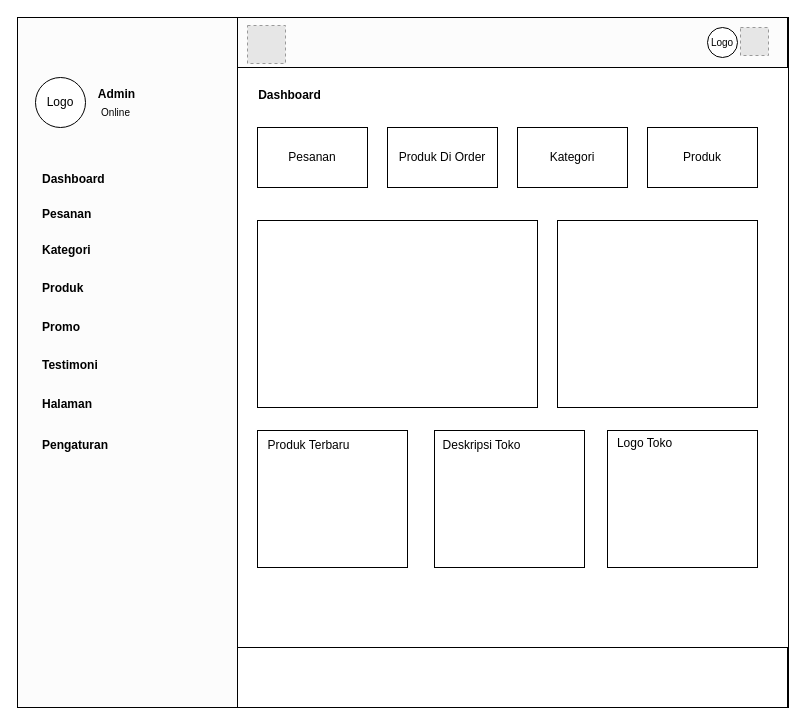
The diagram is 806 pixels wide and 725 high, and some of its shapes have lost their labels. Grey dashed boxes stand in for pictures. Each missing label, with the centre of its shape:
"FOOTER" goes at (x=512, y=677).
"Hasil Penjualan" goes at (x=397, y=314).
"Pesanan Terakhir" goes at (x=657, y=314).
